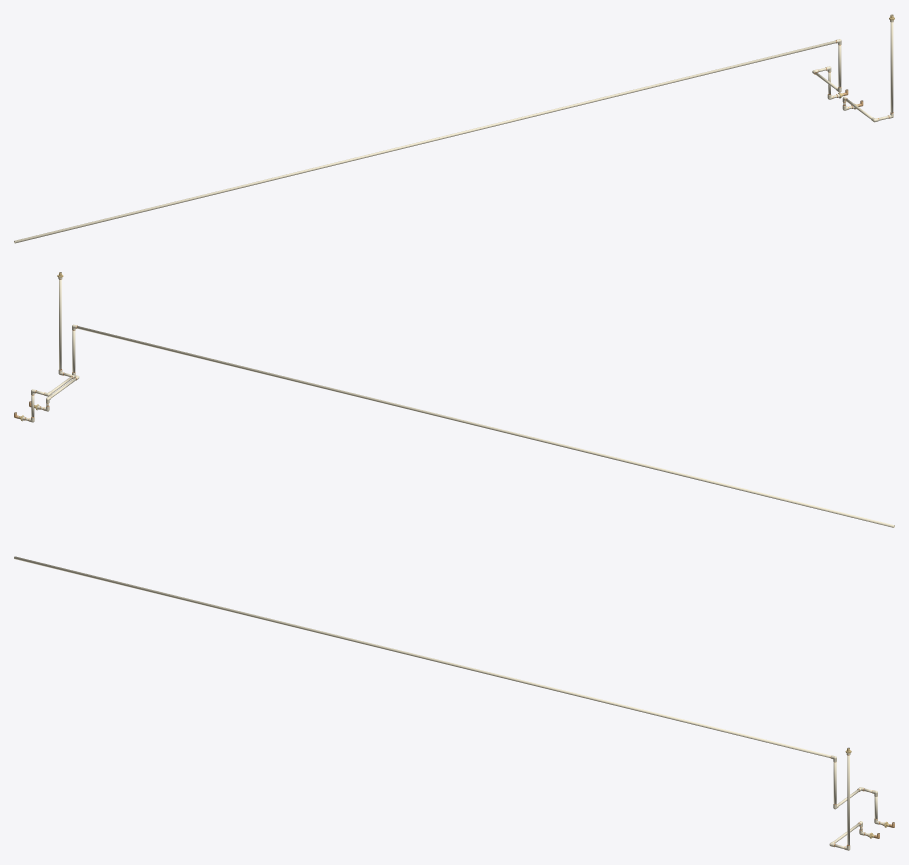
Rendered from pipes_supply__softener-yes_and_plumbing-cpvc.glb.
The picture shows the model from 3 angles, top to bottom: view 1: azimuth 30°, elevation 25°; view 2: azimuth 150°, elevation 25°; view 3: azimuth 330°, elevation 25°; orthographic projection.
Visible parts, largest first — view 1: pipe_supply_from_softener, pipe_supply_softener_feed; view 2: pipe_supply_from_softener; view 3: pipe_supply_from_softener.
Boxes of the visible parts, box(x1,y1,x2,y2) form: pipe_supply_from_softener: box(14, 40, 841, 243); pipe_supply_softener_feed: box(843, 22, 893, 120); pipe_supply_from_softener: box(25, 326, 894, 527); pipe_supply_from_softener: box(14, 556, 882, 824).
Size of the model in its own units: 7.93 by 1 by 0.7677.
